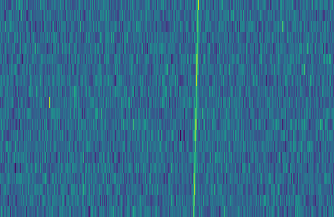signal: (189, 0, 202, 217)
